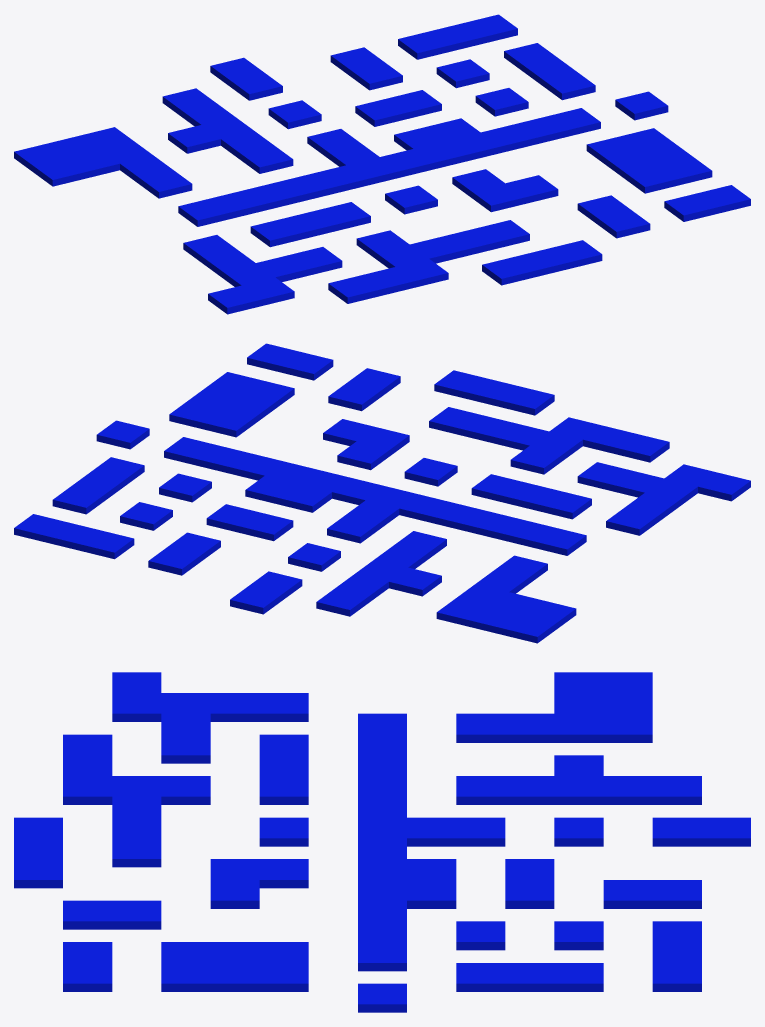
Rendered from st_level_03.FBX.
The picture shows the model from 3 angles, top to bottom: view 1: azimuth 30°, elevation 25°; view 2: azimuth 150°, elevation 25°; view 3: azimuth 270°, elevation 25°; orthographic projection. The views are drawn at different scales.
Parts seen in each view (by area): view 1: st_modules_071; view 2: st_modules_071; view 3: st_modules_071.
Part boxes in pixels (box(x1,y1,x2,y2)): st_modules_071: box(14, 14, 750, 314); st_modules_071: box(14, 343, 750, 643); st_modules_071: box(14, 672, 750, 1012).
Size of the model in its own units: 2560 by 30 by 2400.
